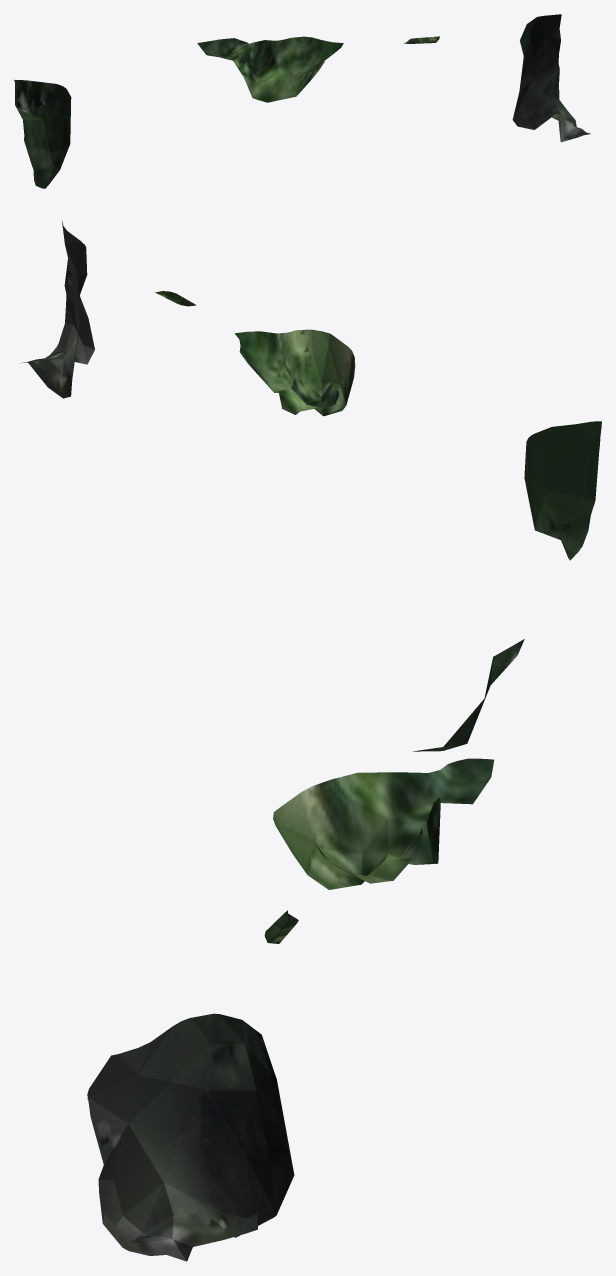
3 renders of one model, top to bottom at view 1: azimuth 30°, elevation 25°; view 2: azimuth 150°, elevation 25°; view 3: azimuth 270°, elevation 25°, orthographic. The views are drawn at different scales.
Bounding box in the file's own units: 26.11 × 5.55 × 10.44.
1 material, 1 textured.
